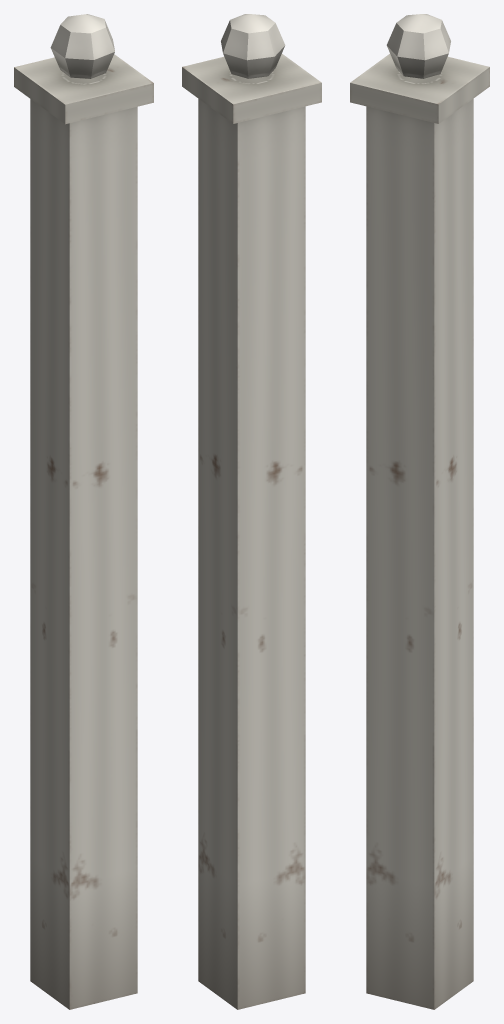
Rendered from Fence_Picket_Post_01.fbx.
The picture shows the model from 3 angles, left to right: view 1: azimuth 30°, elevation 25°; view 2: azimuth 210°, elevation 25°; view 3: azimuth 330°, elevation 25°; orthographic projection.
Visible parts, largest first — view 1: Fence_Picket_Post_01; view 2: Fence_Picket_Post_01; view 3: Fence_Picket_Post_01.
Part boxes in pixels (<box>): Fence_Picket_Post_01: <box>14,14,153,1009</box>; Fence_Picket_Post_01: <box>182,14,321,1009</box>; Fence_Picket_Post_01: <box>350,14,489,1009</box>.
Bounding box in the file's own units: 0.104 × 1.09 × 0.104.
Materials: 1 (1 with a texture image).
